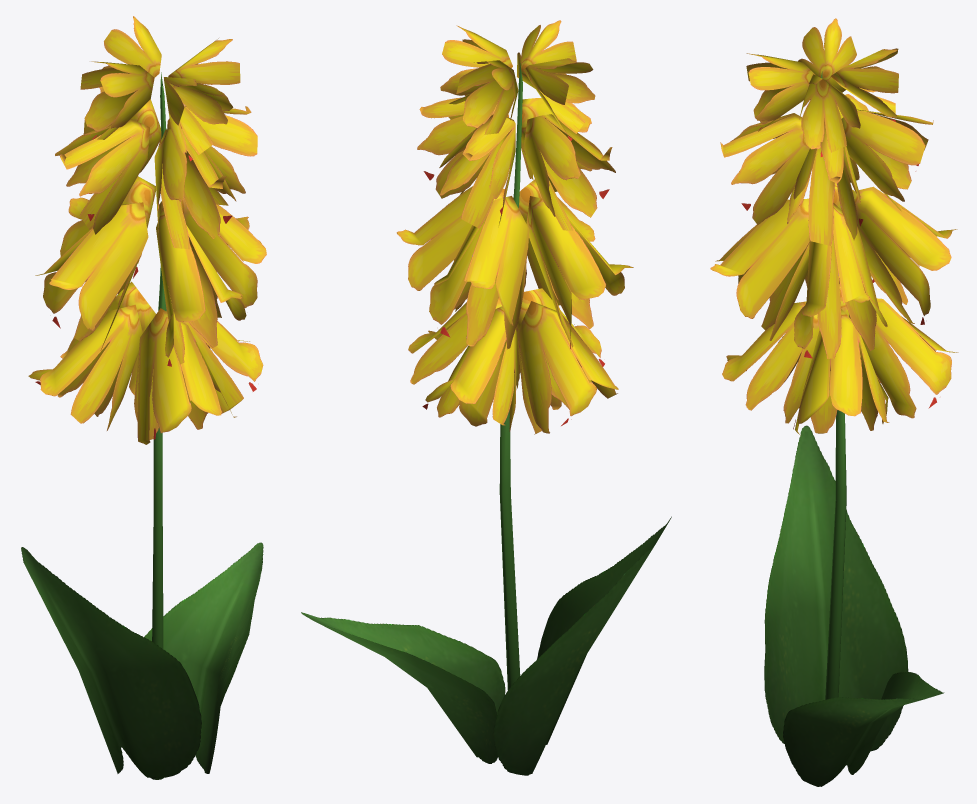
Rendered from Flower_4_Single.gltf.
3 views of the same model, side by side, from view 1: azimuth 30°, elevation 25°; view 2: azimuth 150°, elevation 25°; view 3: azimuth 270°, elevation 25° (orthographic).
Parts seen in each view (by area): view 1: Flower_4_Single; view 2: Flower_4_Single; view 3: Flower_4_Single.
Part boxes in pixels (bbox=[...]): Flower_4_Single: bbox=[21, 16, 266, 779]; Flower_4_Single: bbox=[301, 20, 671, 775]; Flower_4_Single: bbox=[710, 18, 958, 786].
Size of the model in its own units: 1.07 by 2.42 by 0.7729.
2 materials, 2 textured.
